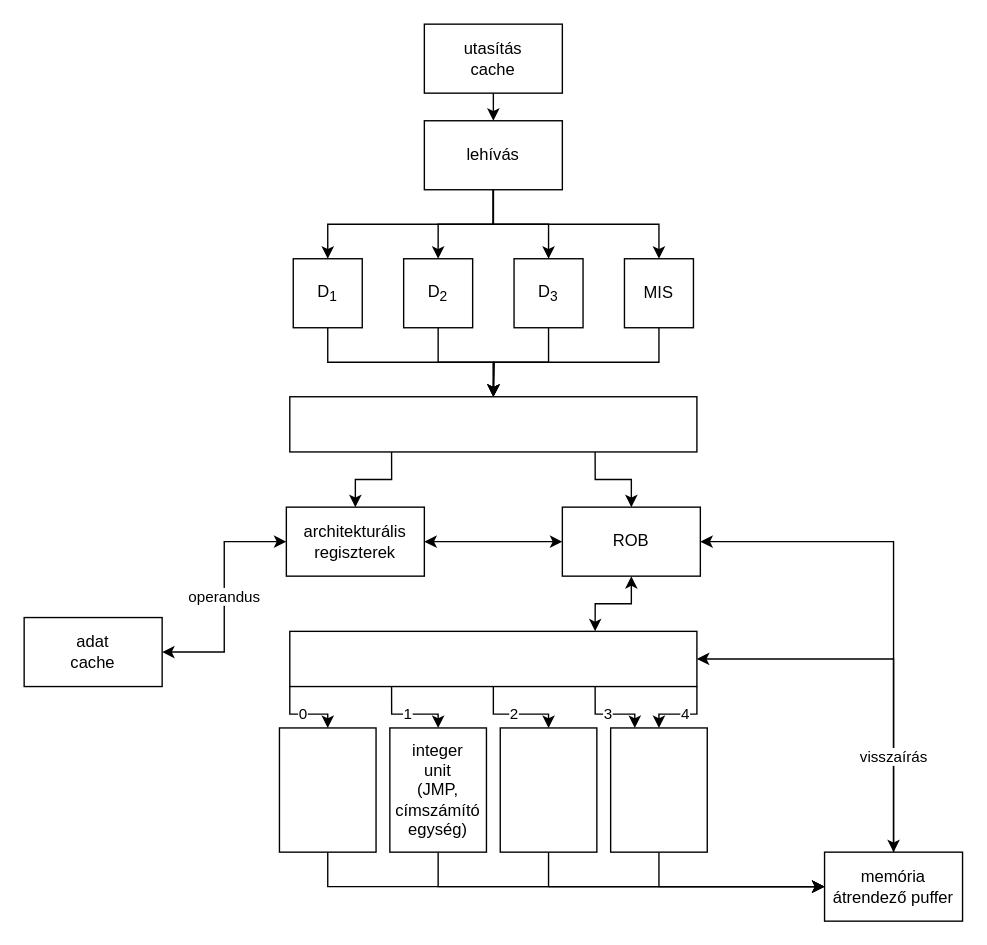
This 987x945 diagram has some shape labels left out. Each missing label, with the centre of its shape:
integer unit (FX, FP): (x=327, y=789)
load (címszámító egység): (x=548, y=789)
regiszter képző tábla: (x=492, y=423)
store (címszámító egység): (x=658, y=789)
várakoztató állomás (5 kimeneti port): (x=492, y=658)
